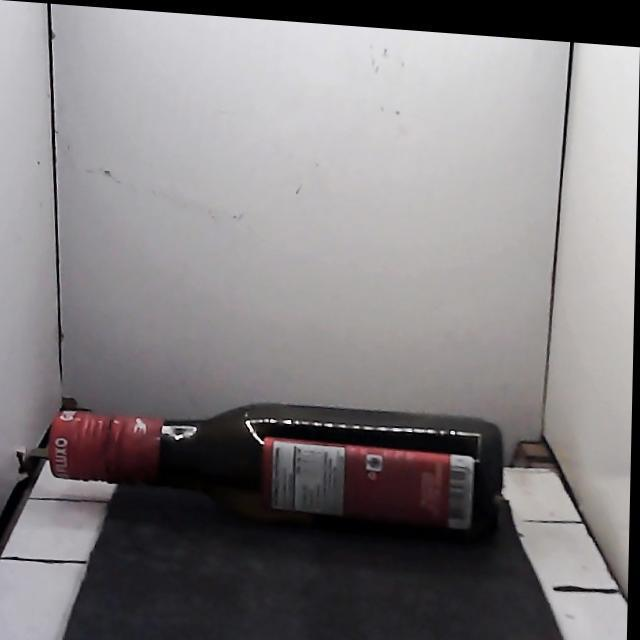vidro: (33, 403, 501, 538)
